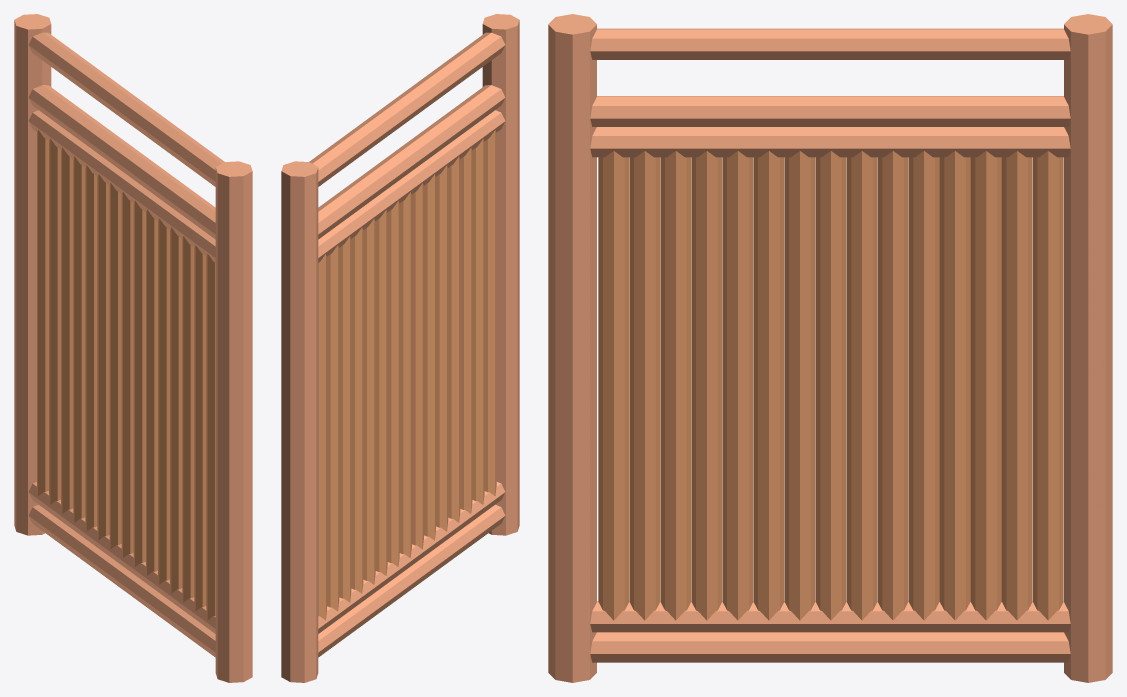
The model's file is BambooFence.fbx.
3 renders of one model, left to right at view 1: azimuth 30°, elevation 25°; view 2: azimuth 150°, elevation 25°; view 3: azimuth 270°, elevation 25°, orthographic. The views are drawn at different scales.
Parts seen in each view (by area): view 1: Cylinder.001, Cylinder; view 2: Cylinder.001, Cylinder; view 3: Cylinder.001, Cylinder.
Part boxes in pixels (<box>): Cylinder.001: <box>37,129,215,619</box>; Cylinder: <box>14,14,252,682</box>; Cylinder.001: <box>318,130,496,620</box>; Cylinder: <box>281,14,519,682</box>; Cylinder.001: <box>598,151,1063,620</box>; Cylinder: <box>548,14,1112,682</box>.
Bounding box in the file's own units: 13.8 × 202 × 159.
